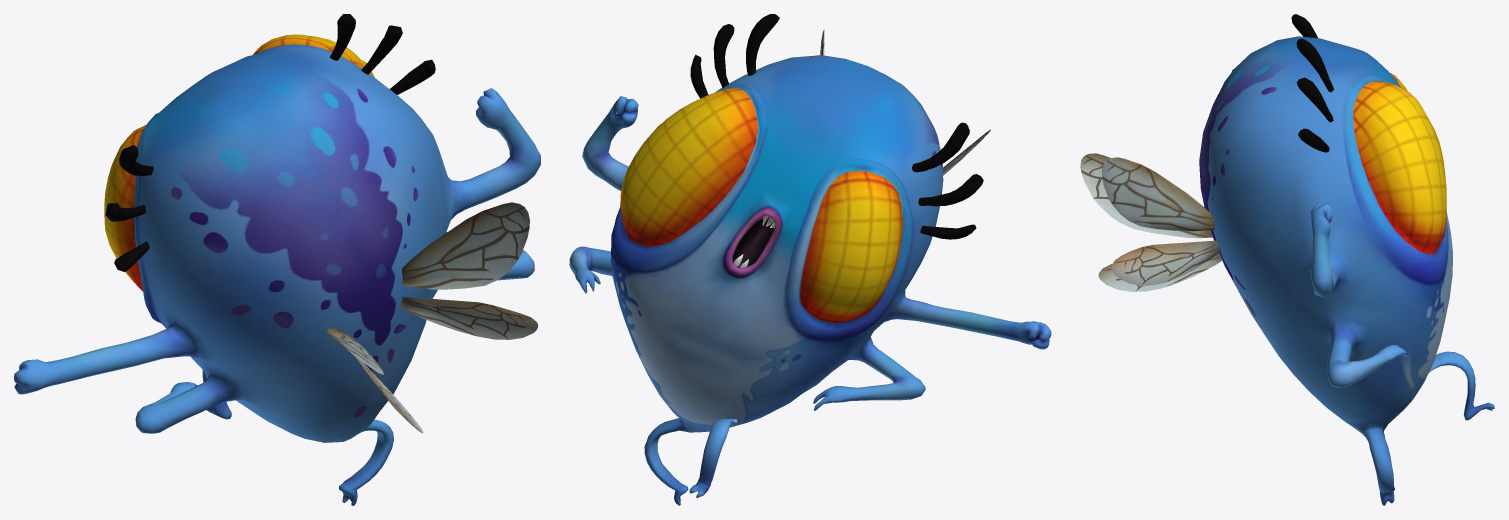
Rendered from chudik-transformed.glb.
The picture shows the model from 3 angles, left to right: view 1: azimuth 30°, elevation 25°; view 2: azimuth 150°, elevation 25°; view 3: azimuth 270°, elevation 25°; orthographic projection. The views are drawn at different scales.
Visible parts, largest first — view 1: node_id214; view 2: node_id214; view 3: node_id214.
Part boxes in pixels (x1=…): node_id214: x1=14, y1=14, x2=540, y2=505; node_id214: x1=569, y1=14, x2=1051, y2=505; node_id214: x1=1080, y1=14, x2=1494, y2=505.
Size of the model in its own units: 0.512 by 0.4958 by 0.4201.
1 material, 1 textured.
